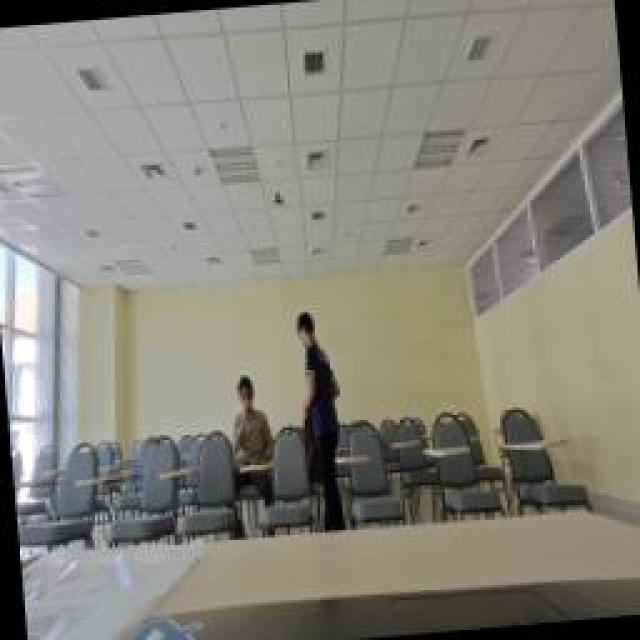study: (223, 370, 275, 468)
